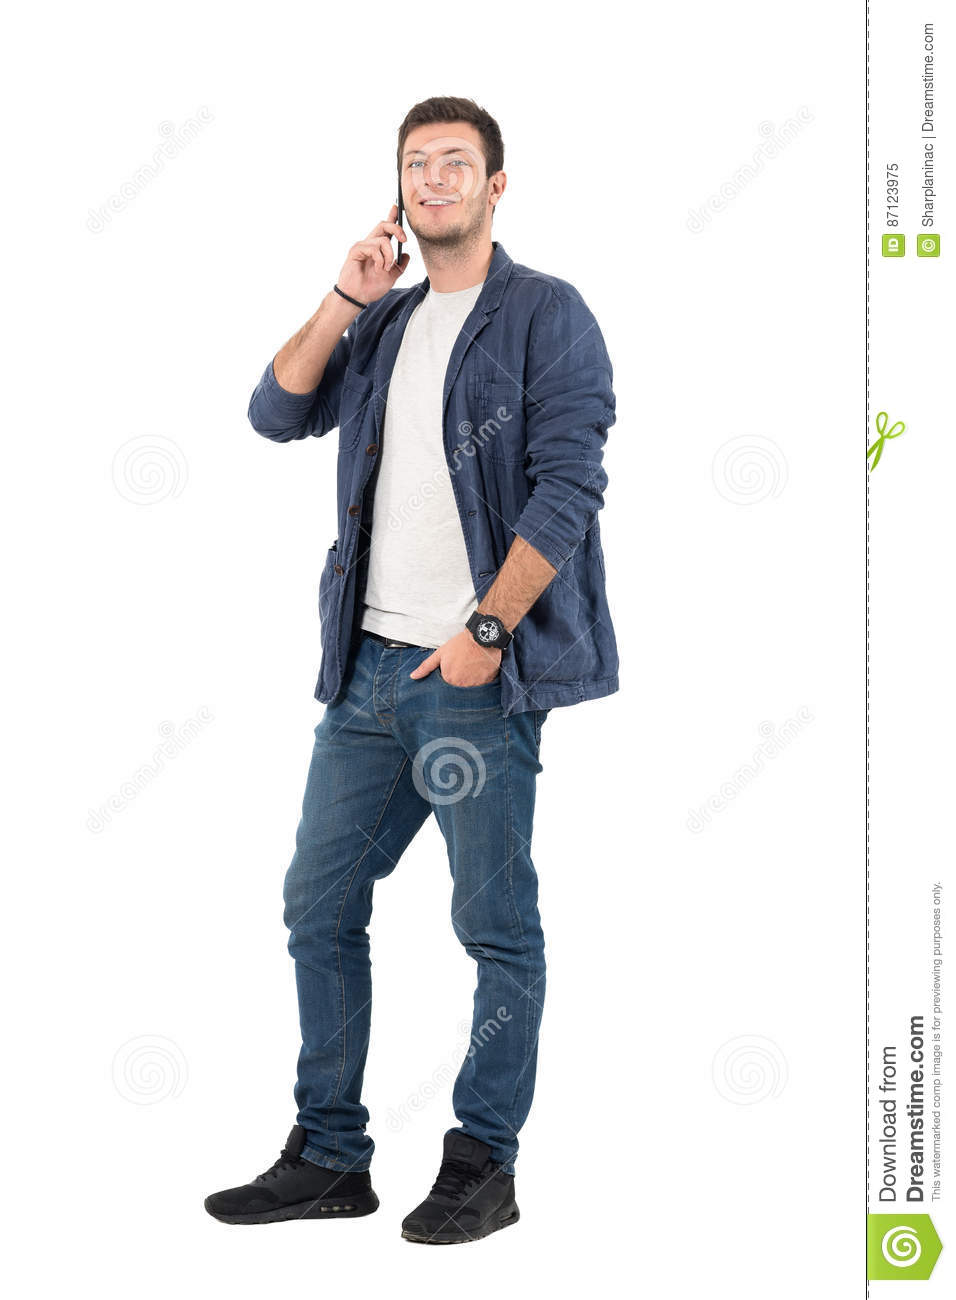phone: (391, 171, 405, 269)
talk: (336, 142, 479, 299)
